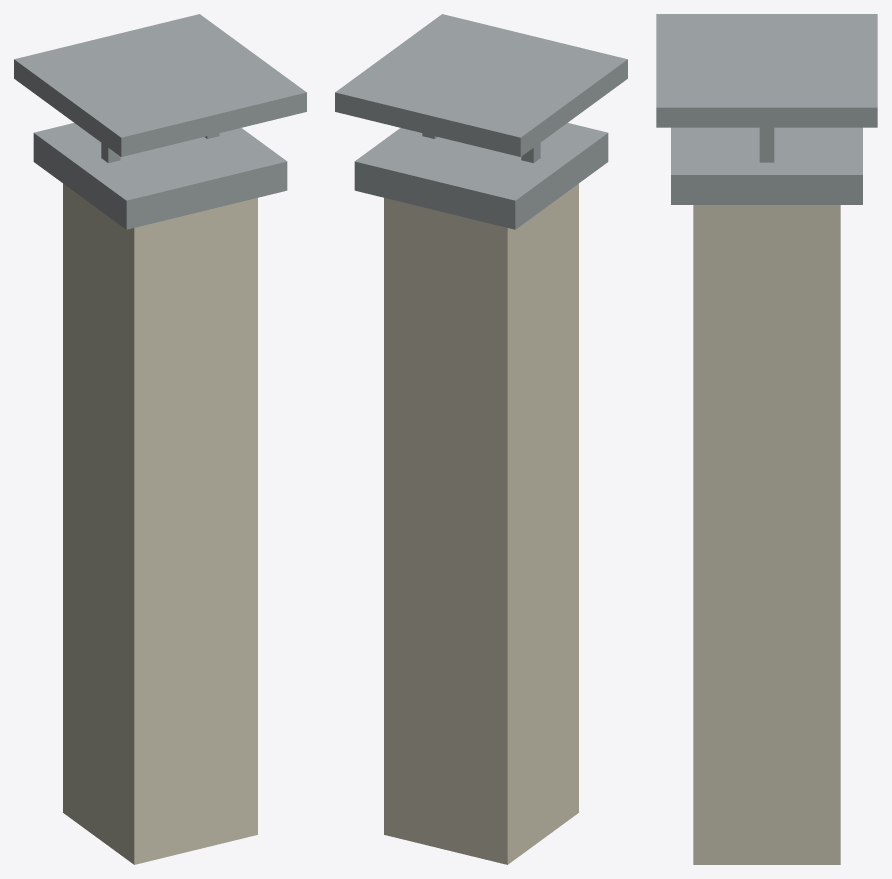
Rendered from modular-survival-base-builder-chimney-stack-a71397b5__24243.glb.
3 views of the same model, side by side, from view 1: azimuth 30°, elevation 25°; view 2: azimuth 150°, elevation 25°; view 3: azimuth 270°, elevation 25° (orthographic). The views are drawn at different scales.
Parts seen in each view (by area): view 1: chimney-stack; view 2: chimney-stack; view 3: chimney-stack.
Part boxes in pixels (<box>): chimney-stack: <box>14,14,306,864</box>; chimney-stack: <box>335,14,627,864</box>; chimney-stack: <box>656,14,877,864</box>.
Size of the model in its own units: 0.6 by 2.31 by 0.6.
